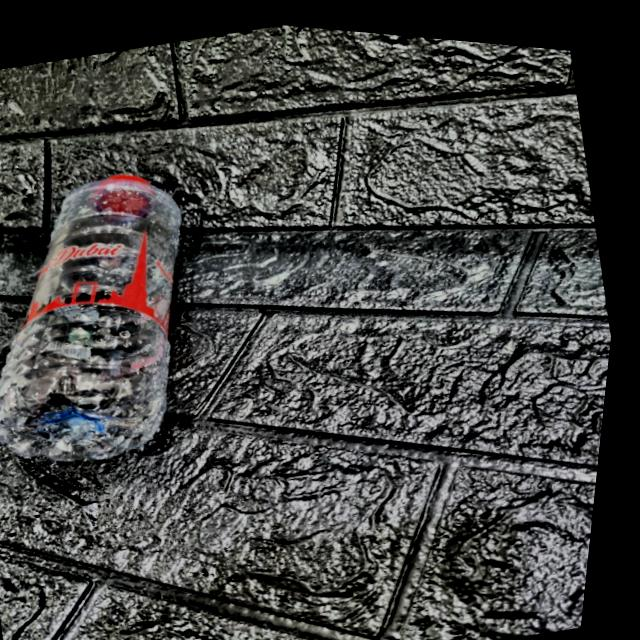Bottles: (0, 121, 314, 546)
